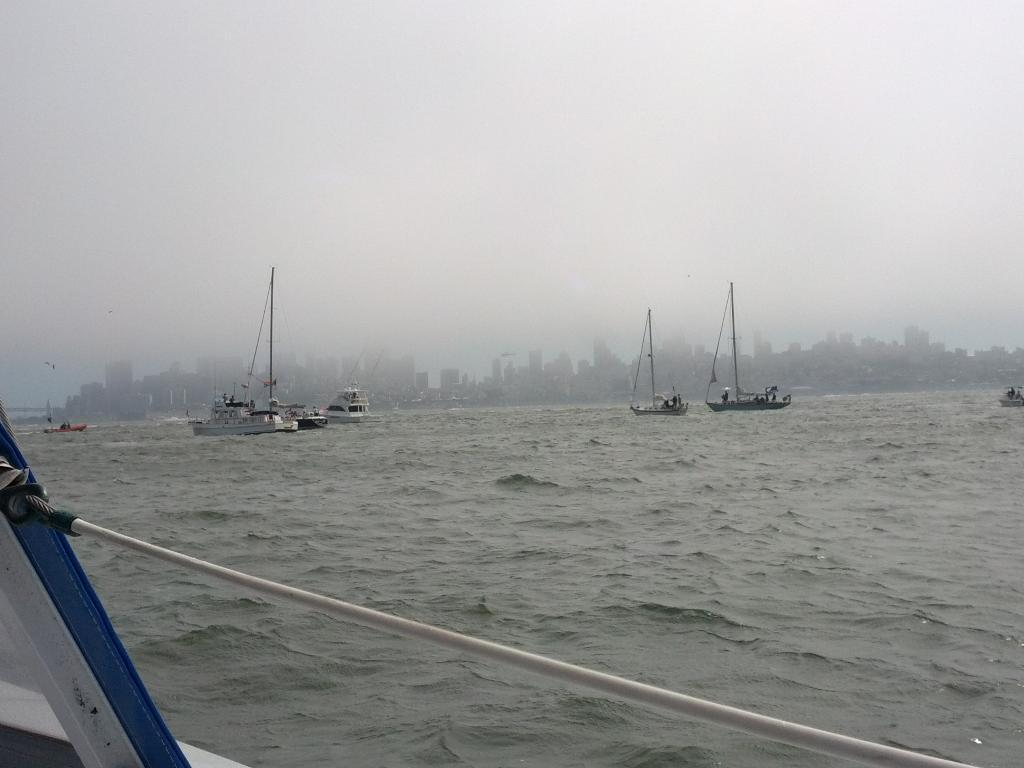PassengerShip: (186, 394, 300, 436), (318, 386, 388, 424)
